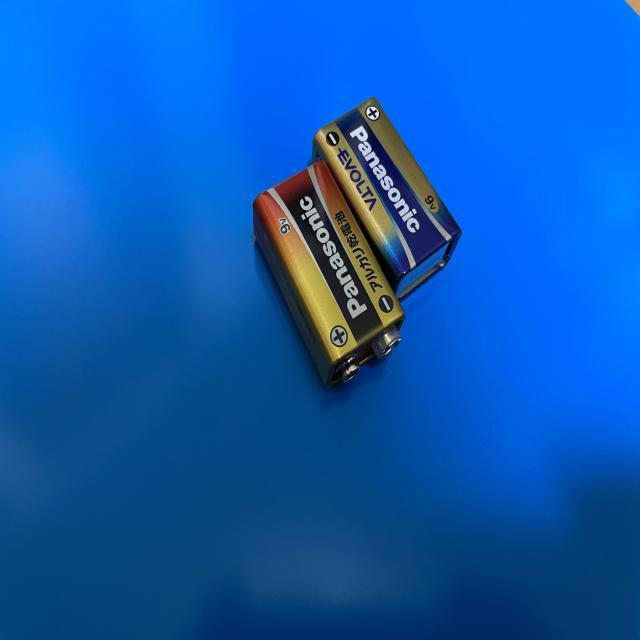9V: (251, 160, 405, 390), (311, 97, 462, 301)
